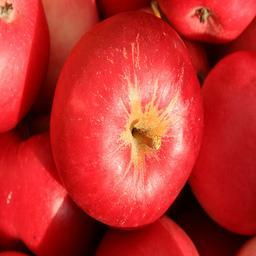apple: (49, 11, 204, 228)
